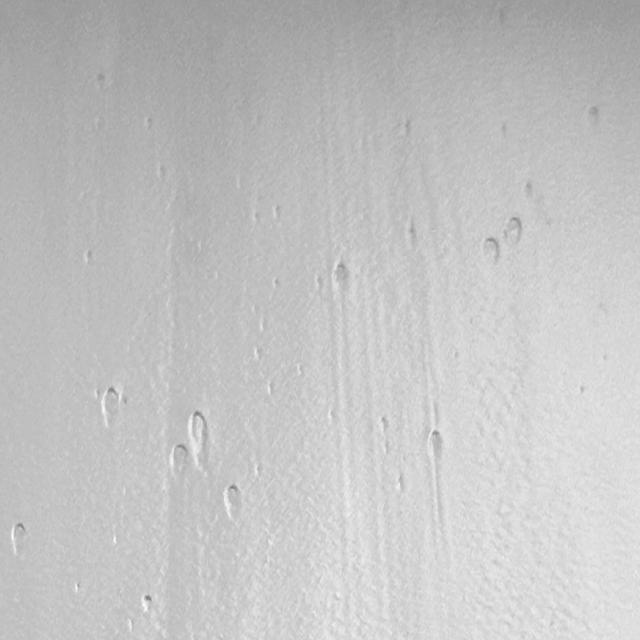pin holes: (187, 410, 217, 468), (96, 386, 124, 428), (222, 482, 245, 518), (7, 521, 30, 556), (477, 236, 501, 268), (501, 212, 523, 246), (168, 444, 192, 474), (331, 260, 352, 294), (427, 431, 445, 461), (582, 104, 601, 130), (402, 223, 420, 250), (89, 71, 108, 94), (494, 121, 512, 143), (140, 115, 158, 137), (138, 591, 155, 614), (79, 248, 97, 269), (154, 163, 170, 185), (400, 118, 416, 140), (519, 181, 533, 203), (395, 471, 404, 498), (252, 344, 265, 362), (270, 203, 282, 221), (376, 414, 388, 431), (250, 212, 262, 228), (296, 360, 304, 384), (576, 384, 588, 399), (314, 273, 324, 291), (268, 378, 276, 398), (73, 582, 84, 596), (270, 275, 280, 290)
